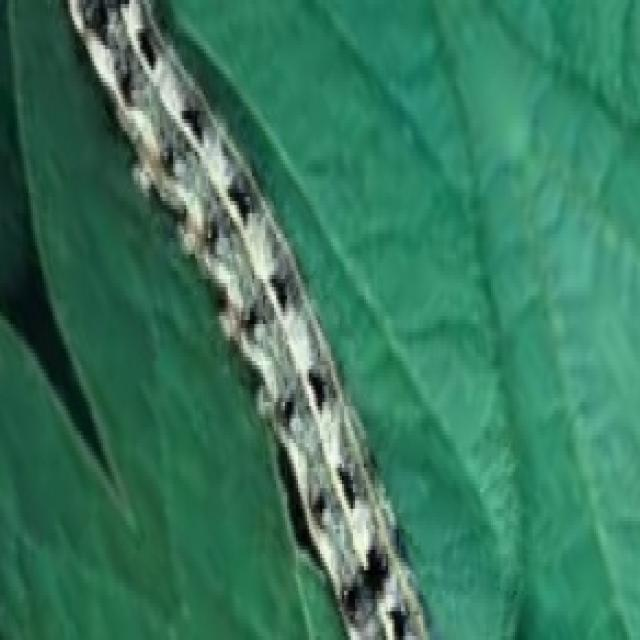Armyworm: (73, 1, 435, 640)
